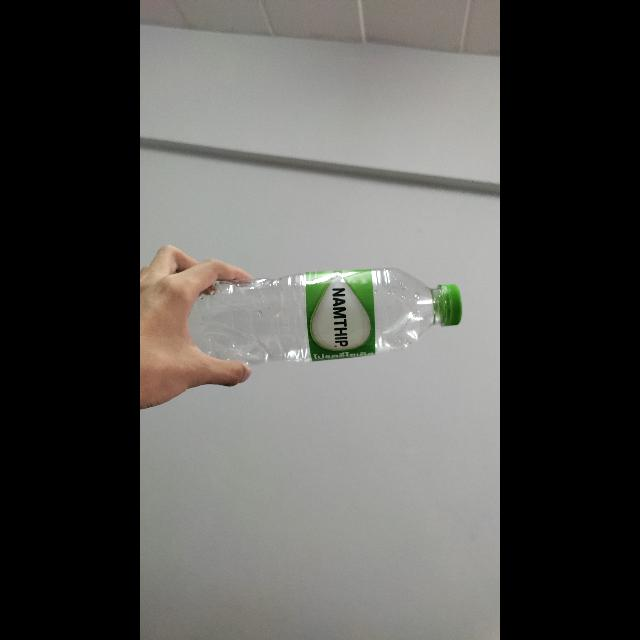plastic_bottle: (178, 253, 470, 374)
plastic_bottle_cap: (430, 280, 462, 328)
